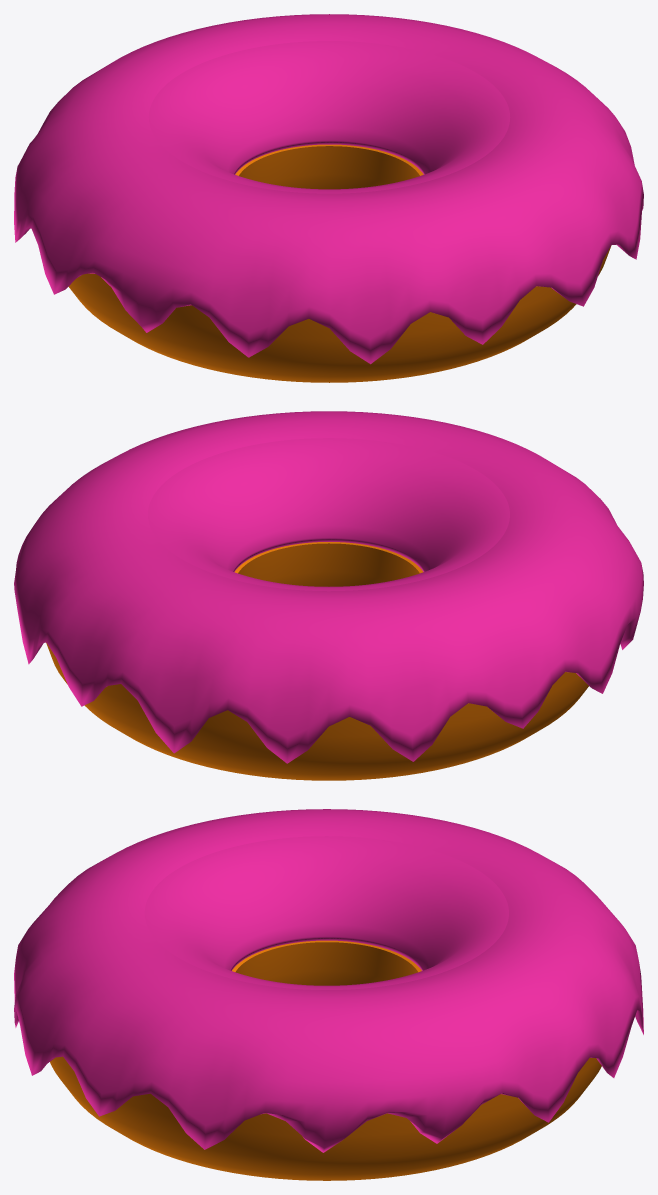
The model's file is Donut.fbx.
The picture shows the model from 3 angles, top to bottom: view 1: azimuth 30°, elevation 25°; view 2: azimuth 150°, elevation 25°; view 3: azimuth 270°, elevation 25°; orthographic projection.
Visible parts, largest first — view 1: Torus.001, Torus.002; view 2: Torus.001, Torus.002; view 3: Torus.001, Torus.002.
Boxes of the visible parts, x1,y1,x2,y2 form: Torus.001: [14, 14, 643, 364]; Torus.002: [68, 144, 611, 382]; Torus.001: [14, 411, 643, 763]; Torus.002: [46, 542, 588, 780]; Torus.001: [14, 809, 643, 1152]; Torus.002: [50, 940, 601, 1180].
Size of what is drawn, in the model's own units: 322 by 101 by 319.
